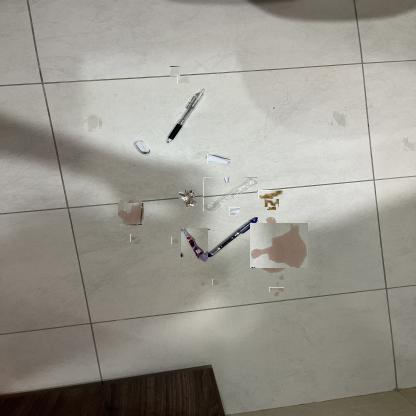dirty: (203, 177, 257, 211), (182, 228, 210, 262), (179, 190, 195, 206), (207, 154, 230, 165), (258, 190, 283, 199), (266, 196, 277, 209), (230, 206, 239, 216)
liquid: (253, 219, 305, 271), (119, 201, 143, 225), (400, 135, 416, 151), (86, 116, 100, 130), (332, 112, 346, 126), (271, 284, 282, 294), (177, 76, 190, 84), (170, 66, 180, 76), (131, 234, 141, 243), (171, 236, 178, 244), (276, 275, 284, 281), (212, 279, 219, 285)
